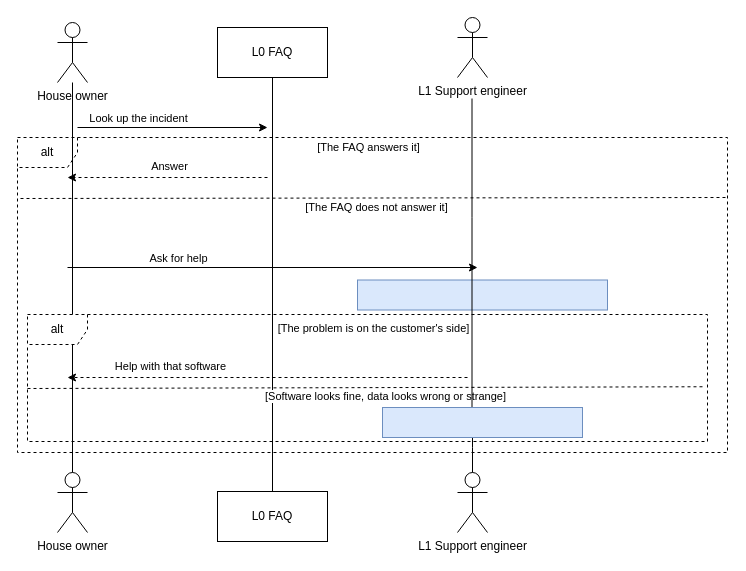
This 746x571 diagram has some shape labels left out. Each missing label, with the centre of its shape:
"Check the customer's software, such as an app crash" goes at pixel 482 294.
"Continue in the software incident sequence" goes at pixel 482 422.
